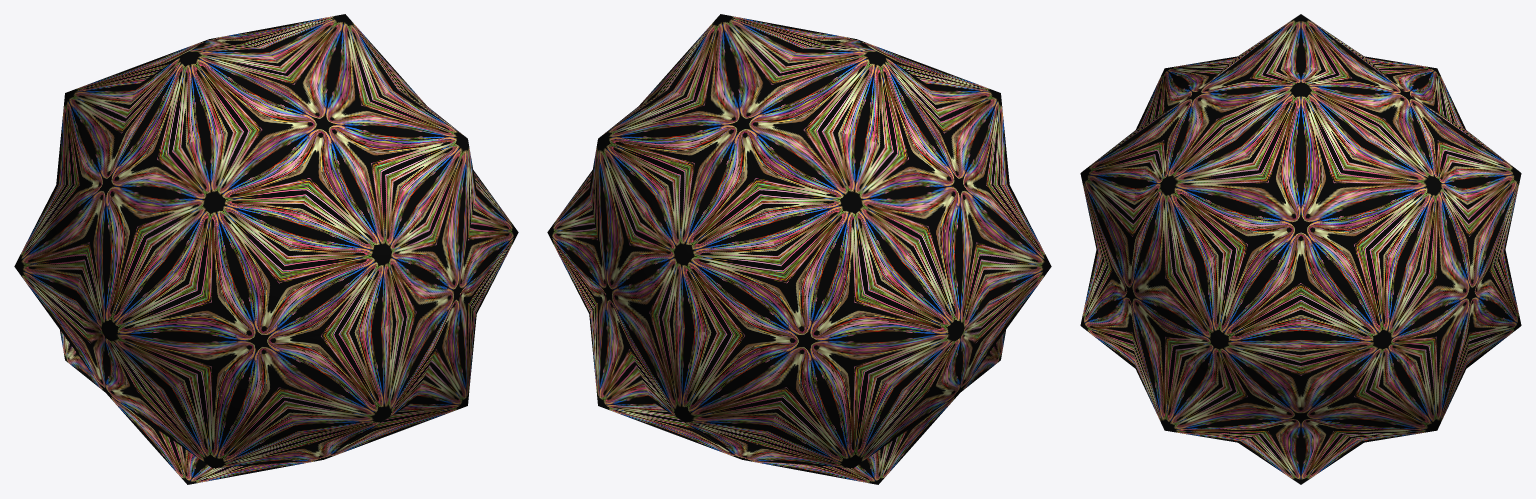
The model's file is SmallIcosacronicHexecontahedron9.gltf.
3 views of the same model, side by side, from view 1: azimuth 30°, elevation 25°; view 2: azimuth 150°, elevation 25°; view 3: azimuth 270°, elevation 25° (orthographic). The views are drawn at different scales.
Parts seen in each view (by area): view 1: SmallIcosacronicHexecontahedron9; view 2: SmallIcosacronicHexecontahedron9; view 3: SmallIcosacronicHexecontahedron9.
Boxes of the visible parts, x1,y1,x2,y2 form: SmallIcosacronicHexecontahedron9: [14, 14, 518, 484]; SmallIcosacronicHexecontahedron9: [547, 14, 1051, 484]; SmallIcosacronicHexecontahedron9: [1080, 14, 1521, 484].
Bounding box in the file's own units: 3.62 × 3.62 × 3.62.
Materials: 1 (1 with a texture image).
